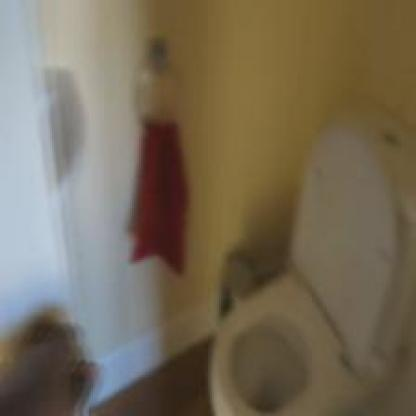other: (108, 118, 236, 278)
